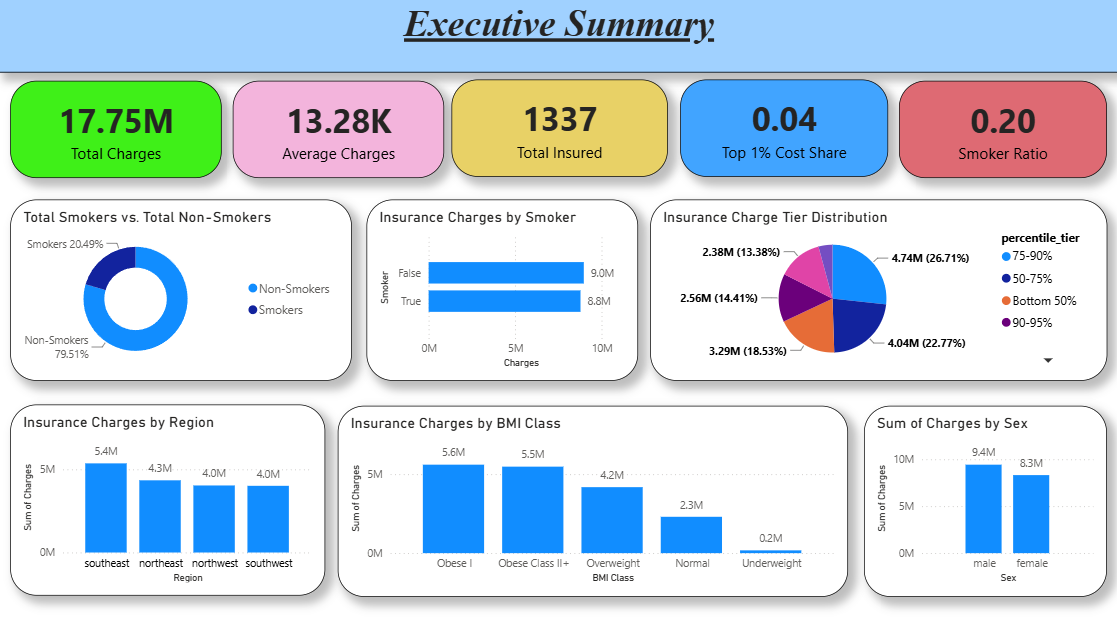

The page's visual inventory and layout, read from the dashboard file:
{"tool":"powerbi","page":{"name":"Executive Summary","canvas":[1280,720],"ordinal":0},"visuals":[{"type":"textbox","box":[0,0,1280.6,86.1],"z":0},{"type":"card","fields":{"Values":["Sum(vw_kpis.total_charges)"]},"box":[12.5,95.8,241.7,111.1],"z":1000},{"type":"card","fields":{"Values":["Sum(vw_kpis.average_charges)"]},"box":[266.7,95.8,241.7,111.1],"z":2000},{"type":"card","fields":{"Values":["Sum(vw_kpis.total_insured)"]},"box":[516.7,94.4,247.2,111.1],"z":3000},{"type":"card","fields":{"Values":["Sum(vw_kpis.top_1_cost_share)"]},"box":[779.2,94.4,237.5,111.1],"z":4000},{"type":"card","fields":{"Values":["Sum(vw_kpis.smoker_ratio)"]},"box":[1029.2,95.8,237.5,111.1],"z":5000},{"type":"donutChart","title":"Total Smokers vs. Total Non-Smokers","fields":{"Y":["Sum(vw_kpis.total_non_smokers)","Sum(vw_kpis.total_smokers)"]},"box":[12.5,231.2,390,207.5],"z":6000},{"type":"columnChart","title":"Insurance Charges by Region","fields":{"Category":["vw_insurance_fact.region"],"Y":["Sum(vw_insurance_fact.charges)"]},"box":[12.5,465,360,218.8],"z":7000},{"type":"columnChart","title":"Insurance Charges by BMI Class","fields":{"Category":["vw_insurance_fact.bmi_class"],"Y":["Sum(vw_insurance_fact.charges)"]},"box":[387.5,465.3,583.3,218.1],"z":8000},{"type":"columnChart","fields":{"Category":["vw_insurance_fact.sex"],"Y":["Sum(vw_insurance_fact.charges)"]},"box":[988.9,466.7,277.8,218.1],"z":9000},{"type":"barChart","title":"Insurance Charges by Smoker","fields":{"Category":["vw_insurance_fact.smoker"],"Y":["Sum(vw_insurance_fact.charges)"]},"box":[420,231.2,310,207.5],"z":10000},{"type":"pieChart","title":"Insurance Charge Tier Distribution","fields":{"Category":["vw_insurance_fact.percentile_tier"],"Y":["Sum(vw_insurance_fact.charges)"]},"box":[744.4,231.9,522.2,206.9],"z":11000}]}

Visuals, with their boxes in screenshot pixels (x1, y1, x2, y2), scaled from the page's 1280x720 canvas onto the 1117x627 screenshot:
textbox: [x1=0, y1=0, x2=1116, y2=75]
card - Sum(vw_kpis.total_charges): [x1=11, y1=83, x2=222, y2=180]
card - Sum(vw_kpis.average_charges): [x1=233, y1=83, x2=444, y2=180]
card - Sum(vw_kpis.total_insured): [x1=451, y1=82, x2=667, y2=179]
card - Sum(vw_kpis.top_1_cost_share): [x1=680, y1=82, x2=887, y2=179]
card - Sum(vw_kpis.smoker_ratio): [x1=898, y1=83, x2=1105, y2=180]
"Total Smokers vs. Total Non-Smokers" donutChart: [x1=11, y1=201, x2=351, y2=382]
"Insurance Charges by Region" columnChart: [x1=11, y1=405, x2=325, y2=595]
"Insurance Charges by BMI Class" columnChart: [x1=338, y1=405, x2=847, y2=595]
columnChart - vw_insurance_fact.sex x Sum(vw_insurance_fact.charges): [x1=863, y1=406, x2=1105, y2=596]
"Insurance Charges by Smoker" barChart: [x1=367, y1=201, x2=637, y2=382]
"Insurance Charge Tier Distribution" pieChart: [x1=650, y1=202, x2=1105, y2=382]
